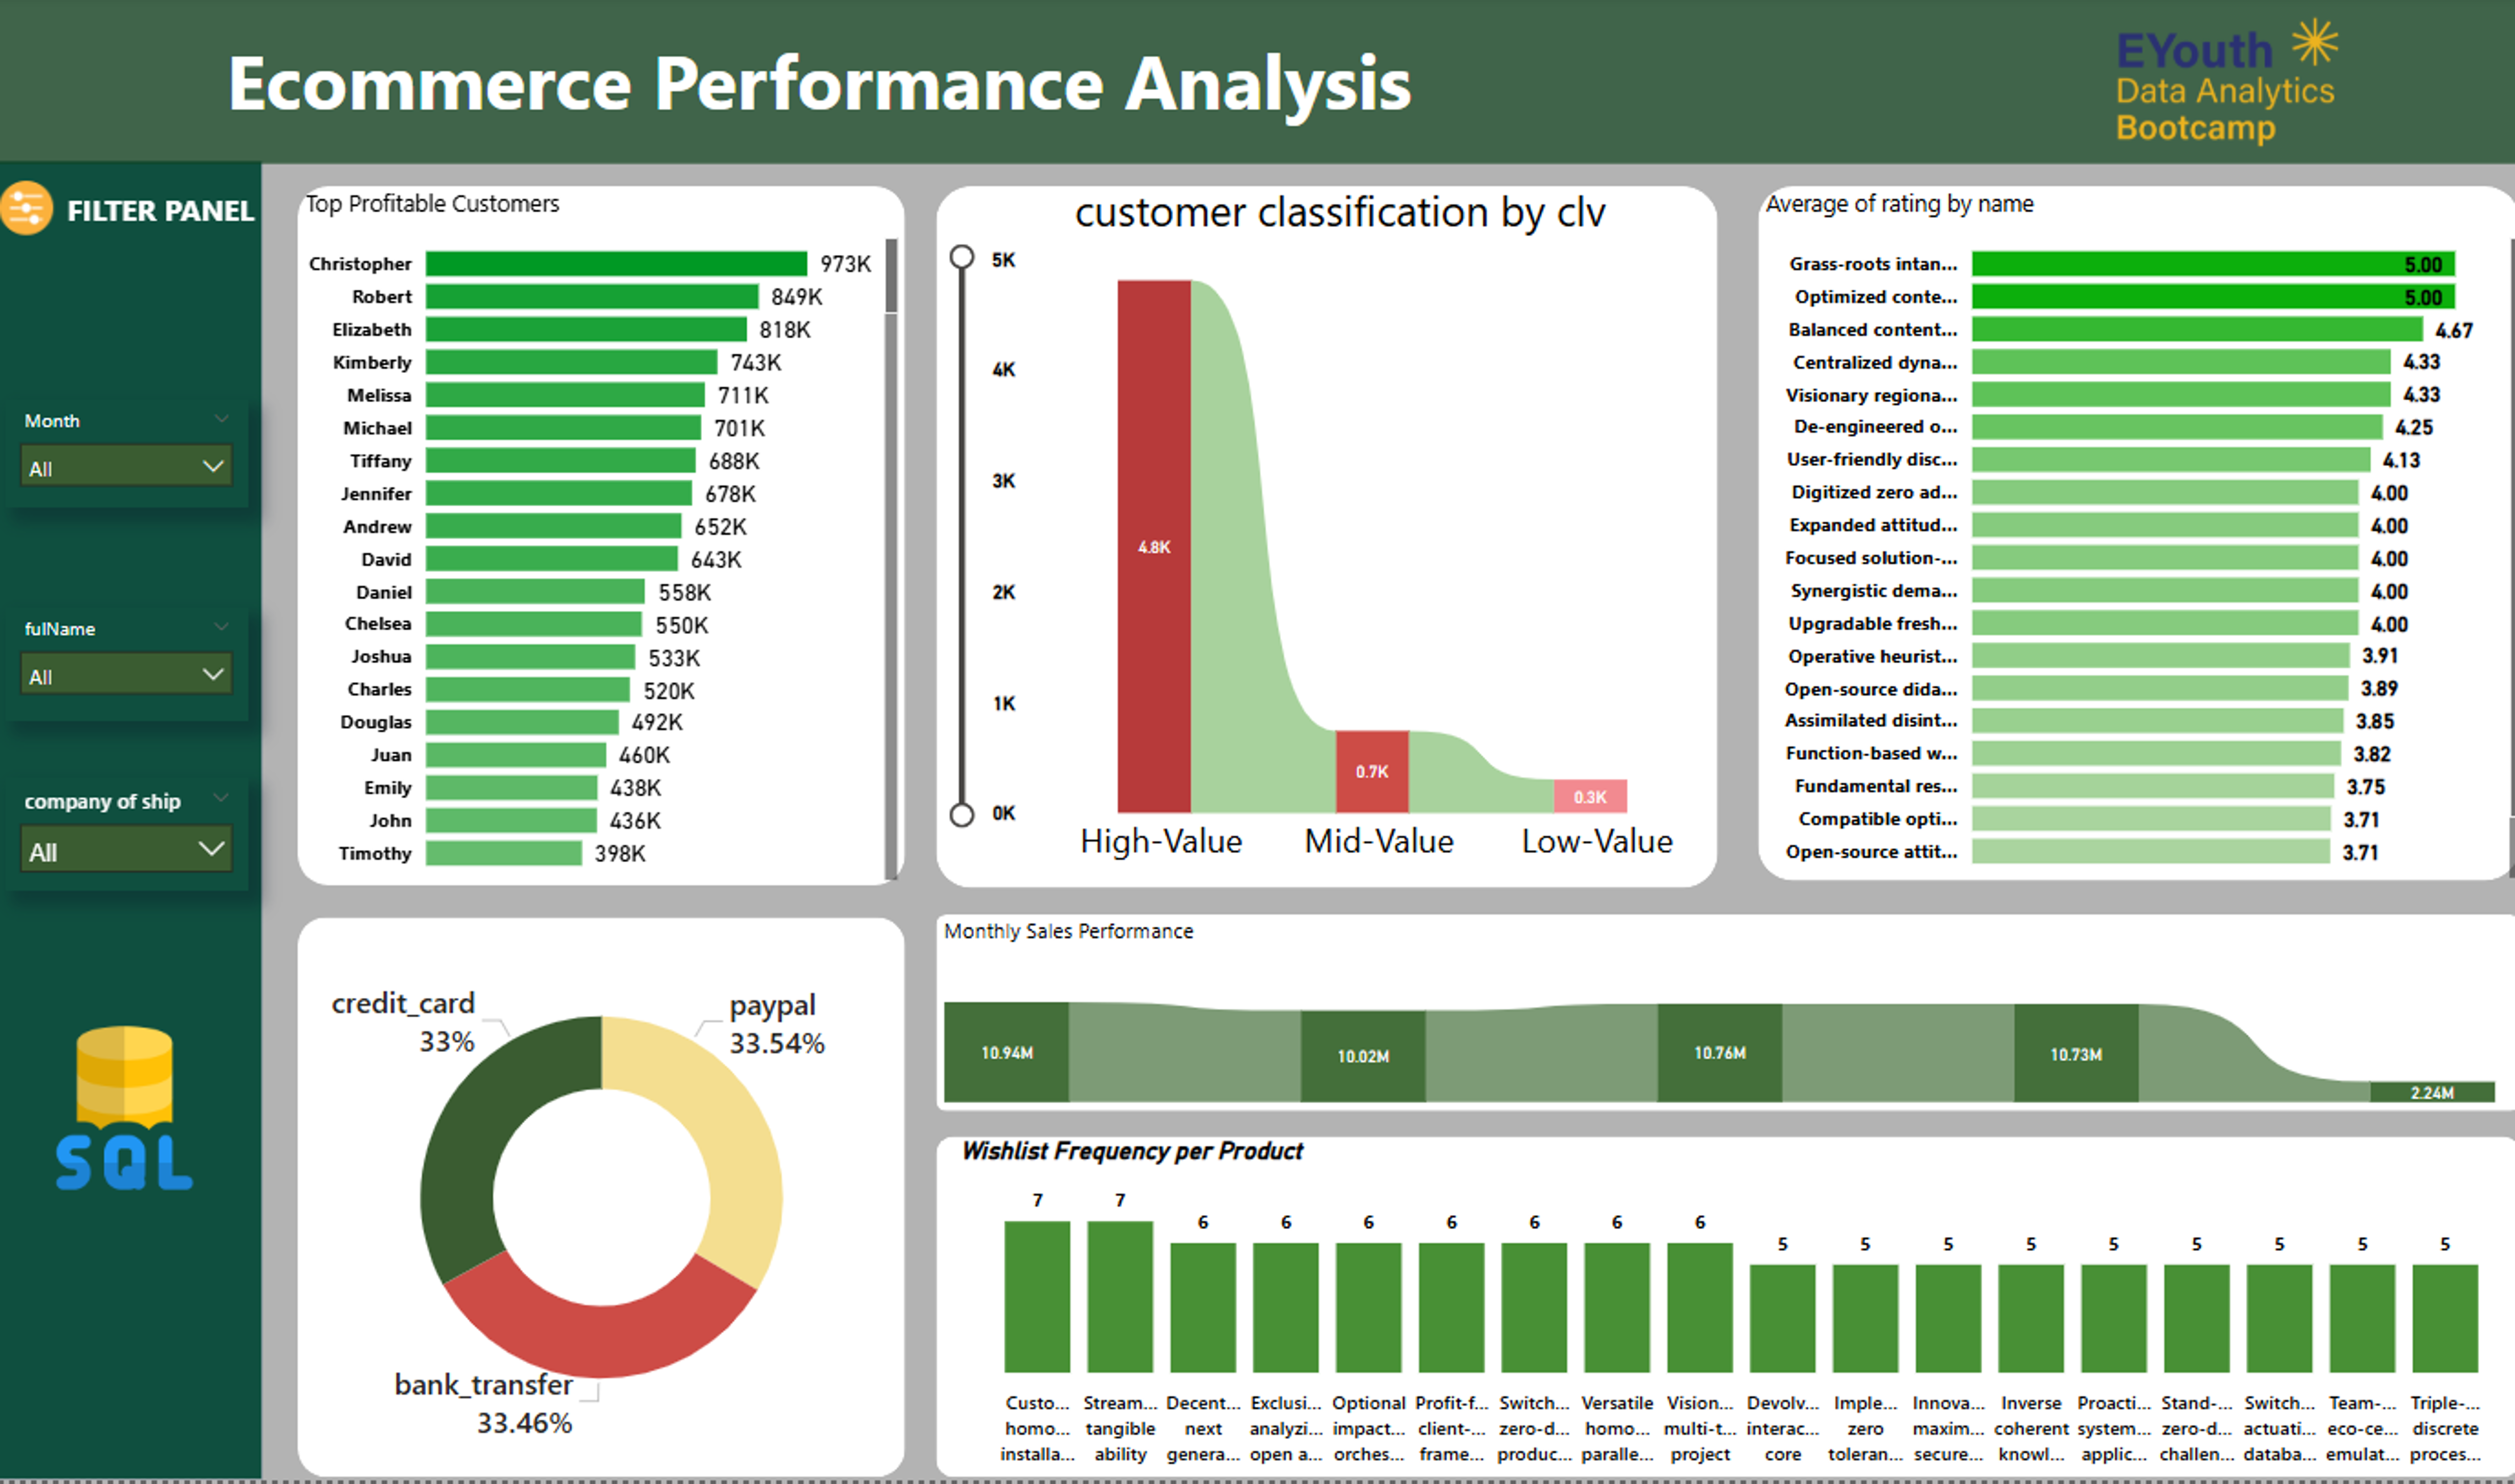

The page's visual inventory and layout, read from the dashboard file:
{"tool":"powerbi","page":{"name":" customers details","canvas":[1626,952],"ordinal":1},"visuals":[{"type":"shape","box":[604.6,590.2,1014.5,126],"z":0},{"type":"shape","box":[0,106.3,173.2,843.9],"z":1000},{"type":"shape","box":[0,0,1625.5,108.5],"z":2000},{"type":"shape","box":[1131,122.8,488.1,445.1],"z":3000},{"type":"shape","box":[604.6,732.2,1014.5,218.5],"z":4000},{"type":"slicer","fields":{"Values":["Dim Customers.registration_date.Variation.Date Hierarchy.Month"]},"box":[8.6,259,156.1,68.6],"z":5000},{"type":"shape","box":[604.6,122.8,500.9,449.8],"z":6000},{"type":"ribbonChart","title":"Monthly Sales Performance","fields":{"Category":["Dim Orders Status.Order_MonthName"],"Y":["Sum(Fac Order Details.Revenue)"]},"box":[604.6,590.2,1014.5,126],"z":7000},{"type":"textbox","box":[146.4,15.9,877.1,78],"z":8000},{"type":"clusteredColumnChart","title":"Wishlist Frequency per Product","fields":{"Category":["Dim Products.name"],"Y":["CountNonNull(Dim Wishlists.product_id)"]},"box":[615.7,732.2,1003.4,218.5],"z":9000},{"type":"shape","box":[196.2,122.8,389.2,448.2],"z":10000},{"type":"clusteredBarChart","fields":{"Category":["Dim Products.name"],"Y":["Avg(Dim Reviews.rating)"]},"box":[1131,122.8,494.5,448.2],"z":11000},{"type":"ribbonChart","title":"customer classification by clv ","fields":{"Y":["Avg(Dim Customers.Customer CLV)"],"Category":["Dim Customers.Customer classification"]},"box":[611,119.6,507.3,448.2],"z":12000},{"type":"shape","box":[196.2,591.8,389.2,358.9],"z":13000},{"type":"donutChart","fields":{"Category":["Dim Payments.payment_method"],"Y":["CountNonNull(Dim Payments.customer_id)"]},"box":[196.2,591.8,389.2,358.9],"z":14000},{"type":"clusteredBarChart","title":"Top Profitable Customers ","fields":{"Category":["Dim Customers.first_name"],"Y":["Sum(Fac Order Details.Revenue)"]},"box":[196.2,122.8,389.2,449.8],"z":15000},{"type":"slicer","fields":{"Values":["Dim Customers.fulName"]},"box":[8,392.4,156.3,71.8],"z":16000},{"type":"slicer","fields":{"Values":["Dim Shipping.company of shipping"]},"box":[8,500.9,156.3,71.8],"z":17000},{"type":"image","box":[1265.5,0,334.3,113],"z":18000},{"type":"image","box":[0,114.1,45,45],"z":19000},{"type":"textbox","box":[44.7,119.6,151.5,39.9],"z":20000},{"type":"image","box":[28.7,654,114.9,118],"z":21000}]}

Visuals, with their boxes in screenshot pixels (x1, y1, x2, y2), scaled from the page's 1626x952 canvas onto the 2515x1484 screenshot:
shape: 935 920 2504 1117
shape: 0 166 268 1481
shape: 0 0 2514 169
shape: 1749 191 2504 885
shape: 935 1141 2504 1482
slicer - Dim Customers.registration_date.Variation.Date Hierarchy.Month: 13 404 255 511
shape: 935 191 1710 892
"Monthly Sales Performance" ribbonChart: 935 920 2504 1117
textbox: 227 25 1583 146
"Wishlist Frequency per Product" clusteredColumnChart: 952 1141 2504 1482
shape: 303 191 906 890
clusteredBarChart - Dim Products.name x Avg(Dim Reviews.rating): 1749 191 2514 890
"customer classification by clv " ribbonChart: 945 186 1730 885
shape: 303 923 906 1482
donutChart - Dim Payments.payment_method x CountNonNull(Dim Payments.customer_id): 303 923 906 1482
"Top Profitable Customers " clusteredBarChart: 303 191 906 892
slicer - Dim Customers.fulName: 12 612 254 724
slicer - Dim Shipping.company of shipping: 12 781 254 893
image: 1957 0 2475 176
image: 0 178 70 248
textbox: 69 186 303 249
image: 45 1019 222 1204
